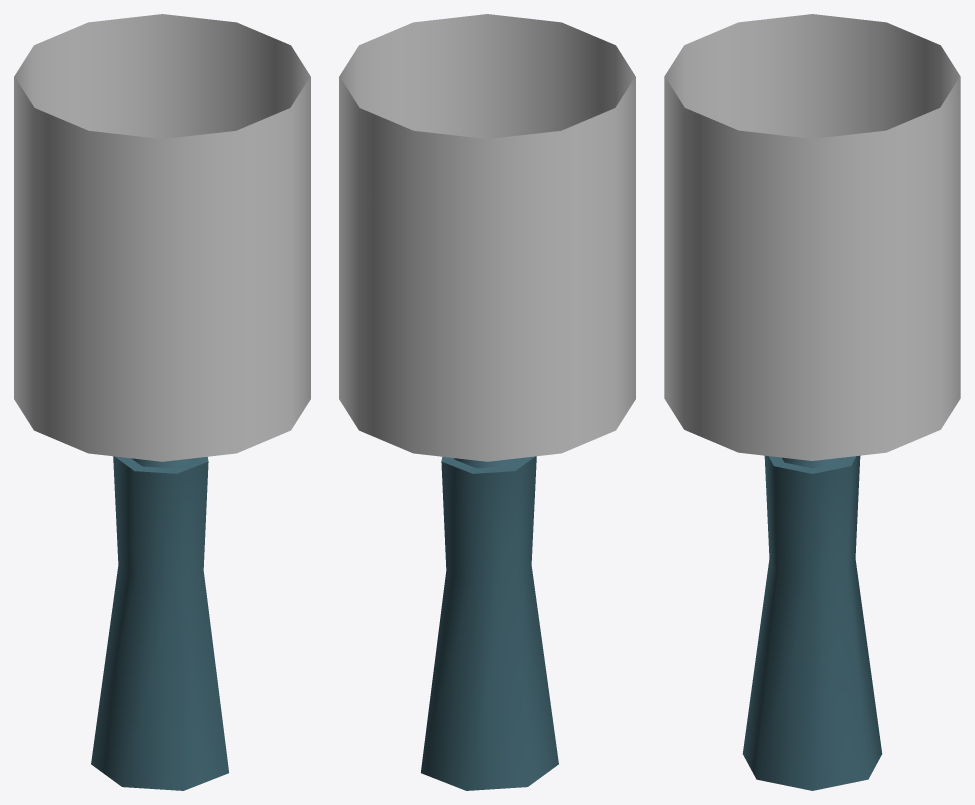
The model's file is lamp_025.glb.
The picture shows the model from 3 angles, left to right: view 1: azimuth 30°, elevation 25°; view 2: azimuth 150°, elevation 25°; view 3: azimuth 270°, elevation 25°; orthographic projection.
Parts seen in each view (by area): view 1: lamp_025; view 2: lamp_025; view 3: lamp_025.
Part boxes in pixels (x1=…): lamp_025: x1=14, y1=14, x2=310, y2=790; lamp_025: x1=339, y1=14, x2=635, y2=790; lamp_025: x1=664, y1=14, x2=960, y2=790.
Size of the model in its own units: 0.2515 by 0.6405 by 0.2515.
1 material, 1 textured.
